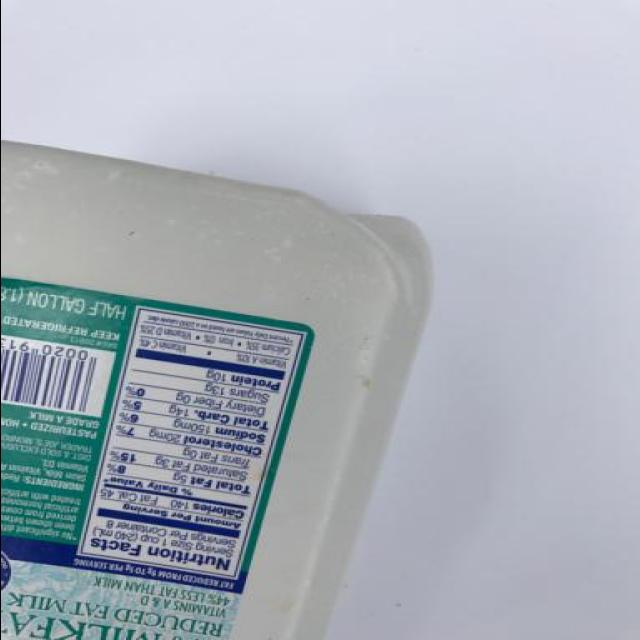litter: (1, 127, 447, 638)
